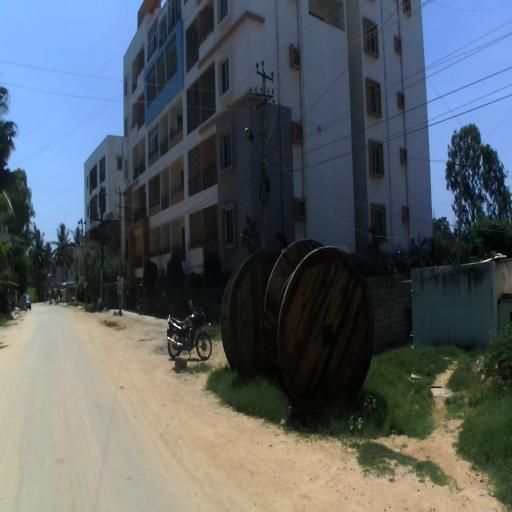street_light_0: (245, 128, 266, 174), (109, 210, 121, 234)
